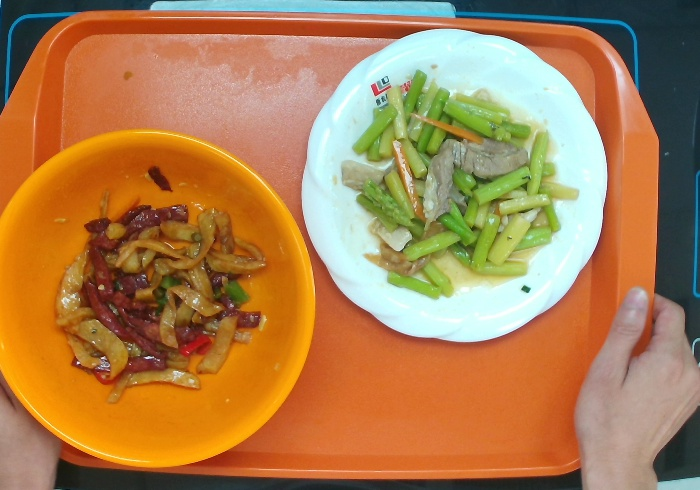ZNLD-Hua_Bian_Wan: (302, 30, 607, 342)
ZNLD-Ju_Se_Tang_Wan: (5, 126, 316, 468)
